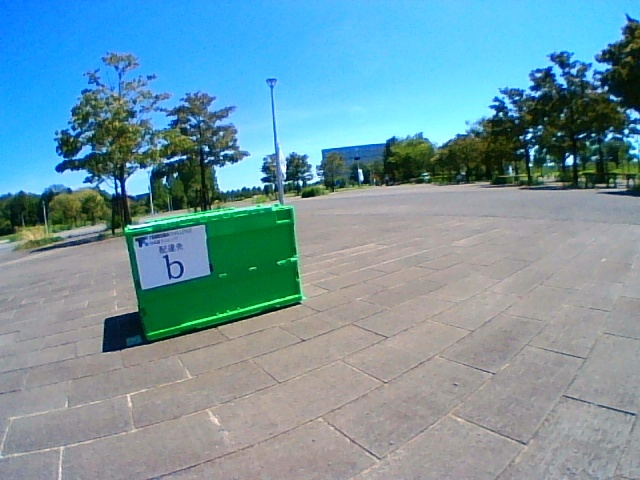green_box: (125, 203, 303, 341)
tag_b: (145, 236, 188, 281)
